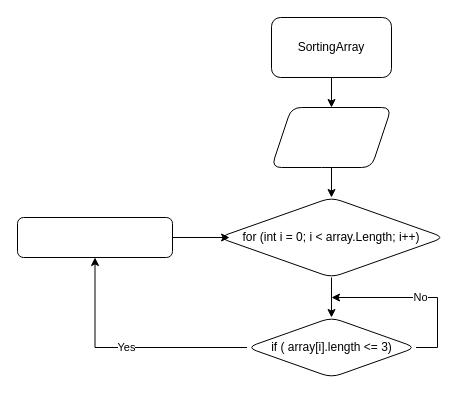
Some shapes in this 463 by 395 pixel diagram are drawn without their labels. Here are the shapes that lost their labels. From the top down, the box of each, then its label:
(270, 106, 392, 168): string[] array1 string[] array2 int count = 0
(16, 216, 172, 258): array2[count] = array1[i] count++
